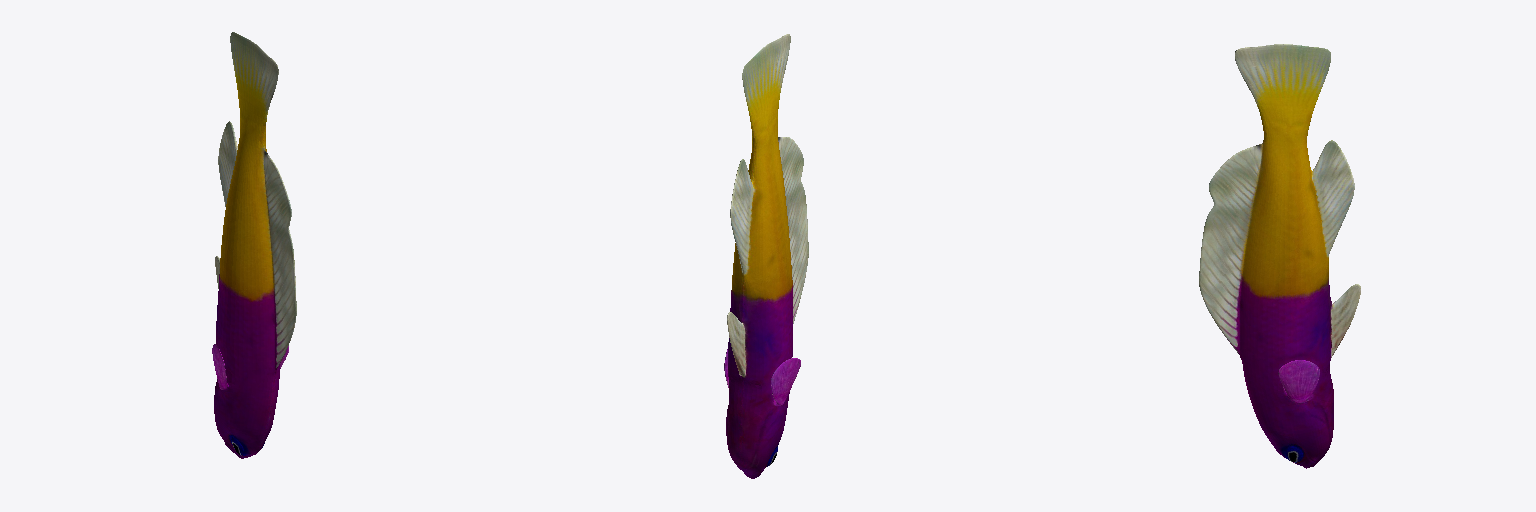
3 views of the same model, side by side, from view 1: azimuth 30°, elevation 25°; view 2: azimuth 150°, elevation 25°; view 3: azimuth 270°, elevation 25° (orthographic).
Parts seen in each view (by area): view 1: 13005_Bicolor_Dottyback_v1; view 2: 13005_Bicolor_Dottyback_v1; view 3: 13005_Bicolor_Dottyback_v1.
Boxes of the visible parts, x1,y1,x2,y2 form: 13005_Bicolor_Dottyback_v1: [212, 32, 296, 458]; 13005_Bicolor_Dottyback_v1: [724, 34, 808, 478]; 13005_Bicolor_Dottyback_v1: [1199, 44, 1360, 468].
Bounding box in the file's own units: 0.8296 × 5.11 × 1.77.
1 materials, 1 textured.